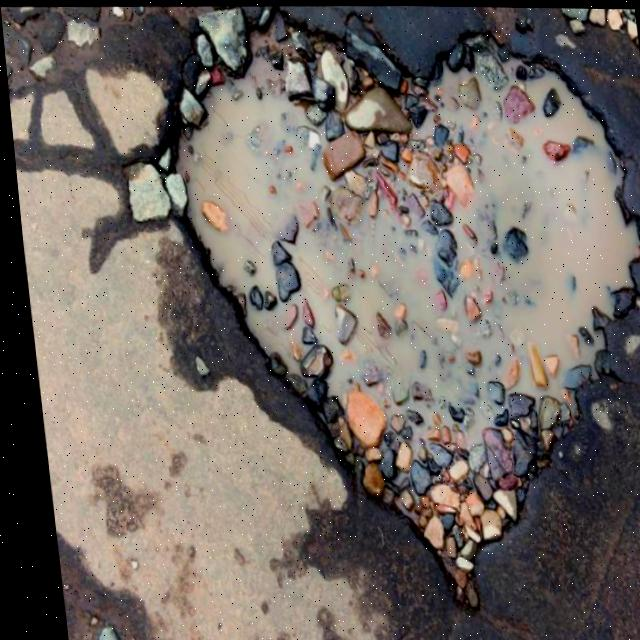Pothole: (136, 4, 640, 585)
